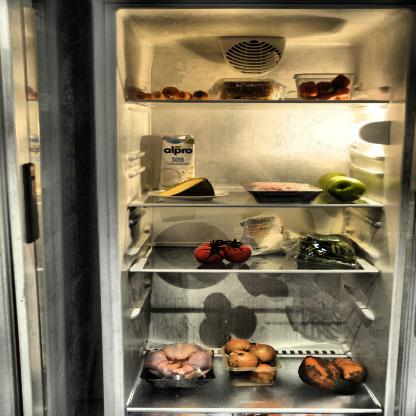apple: (316, 172, 370, 204)
carrot: (131, 86, 216, 104)
cheese: (157, 176, 218, 198)
chicken: (142, 341, 215, 385)
green_beans: (292, 232, 368, 266)
milk: (157, 135, 196, 193)
onion: (222, 334, 282, 384)
strawberries: (296, 72, 352, 102)
sweet_potato: (295, 352, 370, 392)
tomato: (196, 241, 254, 266)
